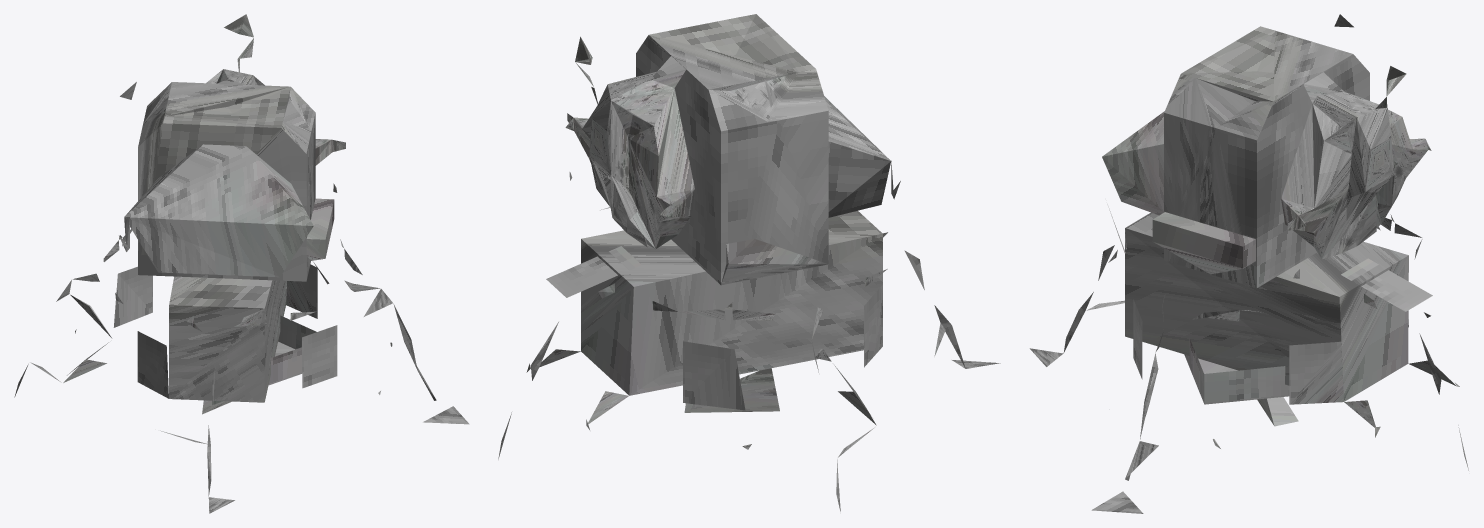
3 views of the same model, side by side, from view 1: azimuth 30°, elevation 25°; view 2: azimuth 150°, elevation 25°; view 3: azimuth 270°, elevation 25° (orthographic). The views are drawn at different scales.
Visible parts, largest first — view 1: Aluminium_Capsule_Aluminium Capsule_0; view 2: Aluminium_Capsule_Aluminium Capsule_0; view 3: Aluminium_Capsule_Aluminium Capsule_0.
Part boxes in pixels (left/top/right/bottom): Aluminium_Capsule_Aluminium Capsule_0: left=14, top=14, right=469, bottom=513; Aluminium_Capsule_Aluminium Capsule_0: left=498, top=14, right=1000, bottom=511; Aluminium_Capsule_Aluminium Capsule_0: left=1029, top=14, right=1468, bottom=513.
Size of the model in its own units: 55.52 by 55.33 by 56.37.
1 material, 1 textured.
